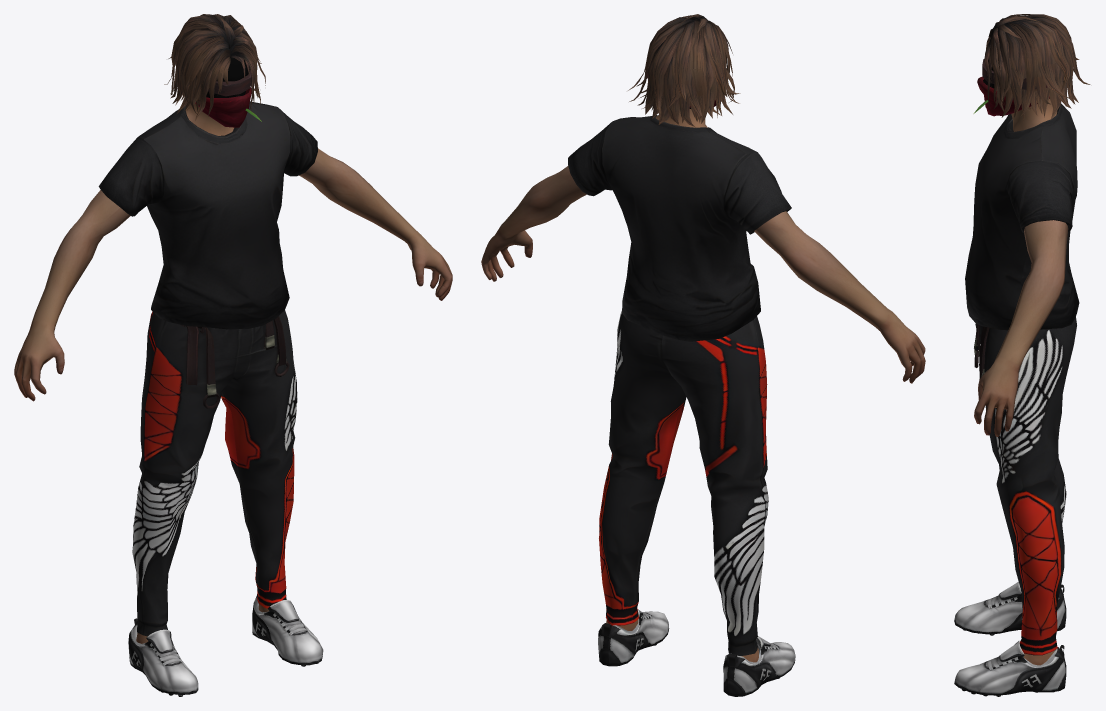
The model's file is moses ff.glb.
The picture shows the model from 3 angles, left to right: view 1: azimuth 30°, elevation 25°; view 2: azimuth 150°, elevation 25°; view 3: azimuth 270°, elevation 25°; orthographic projection.
Parts seen in each view (by area): view 1: moses ff 3, moses ff 1, moses ff 6, moses ff 2, moses ff 4, moses ff 5; view 2: moses ff 3, moses ff 1, moses ff 6, moses ff 2, moses ff 4; view 3: moses ff 3, moses ff 1, moses ff 6, moses ff 2, moses ff 4, moses ff 5.
Part boxes in pixels (left/top/right/bottom): moses ff 3: left=132, top=310, right=297, bottom=636; moses ff 1: left=98, top=101, right=317, bottom=329; moses ff 6: left=14, top=103, right=452, bottom=643; moses ff 2: left=164, top=14, right=265, bottom=120; moses ff 4: left=128, top=596, right=323, bottom=696; moses ff 5: left=195, top=70, right=261, bottom=127; moses ff 3: left=599, top=311, right=768, bottom=655; moses ff 1: left=568, top=115, right=791, bottom=341; moses ff 6: left=481, top=109, right=925, bottom=662; moses ff 2: left=628, top=14, right=740, bottom=127; moses ff 4: left=598, top=609, right=795, bottom=696; moses ff 3: left=974, top=316, right=1076, bottom=655; moses ff 1: left=965, top=103, right=1079, bottom=330; moses ff 6: left=974, top=98, right=1068, bottom=665; moses ff 2: left=984, top=14, right=1090, bottom=121; moses ff 4: left=954, top=582, right=1066, bottom=696; moses ff 5: left=973, top=59, right=1049, bottom=116.
Size of the model in its own units: 0.6407 by 0.9137 by 0.1769.
Materials: 7 (7 with a texture image).
